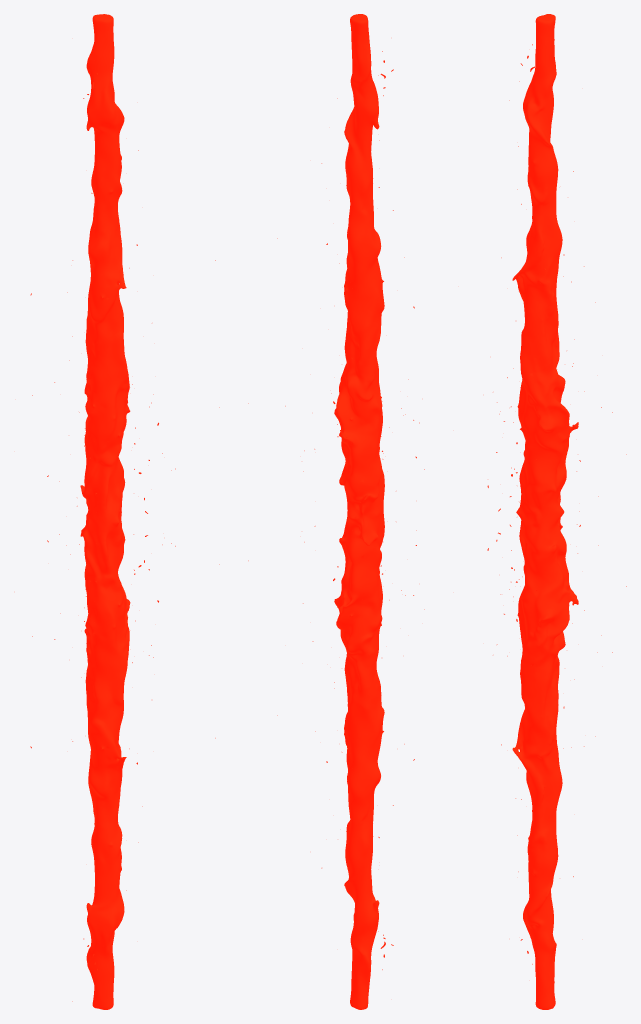
File: Liquid2.glb
3 views of the same model, side by side, from view 1: azimuth 30°, elevation 25°; view 2: azimuth 150°, elevation 25°; view 3: azimuth 270°, elevation 25° (orthographic).
Visible parts, largest first — view 1: liquid; view 2: liquid; view 3: liquid.
Part boxes in pixels (bbox=[...]): liquid: bbox=[30, 14, 219, 1009]; liquid: bbox=[248, 14, 424, 1009]; liquid: bbox=[487, 14, 626, 1009].
Bounding box in the file's own units: 1.93 × 9.55 × 1.52.
